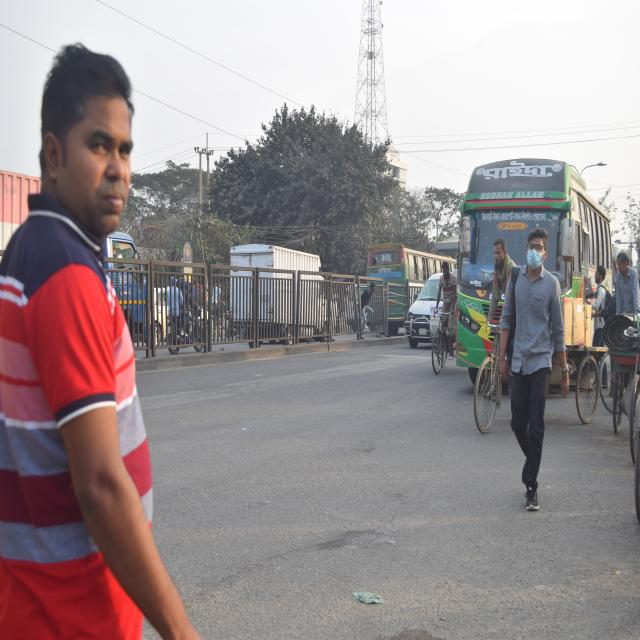bus: (454, 149, 600, 376)
car: (400, 273, 447, 346)
